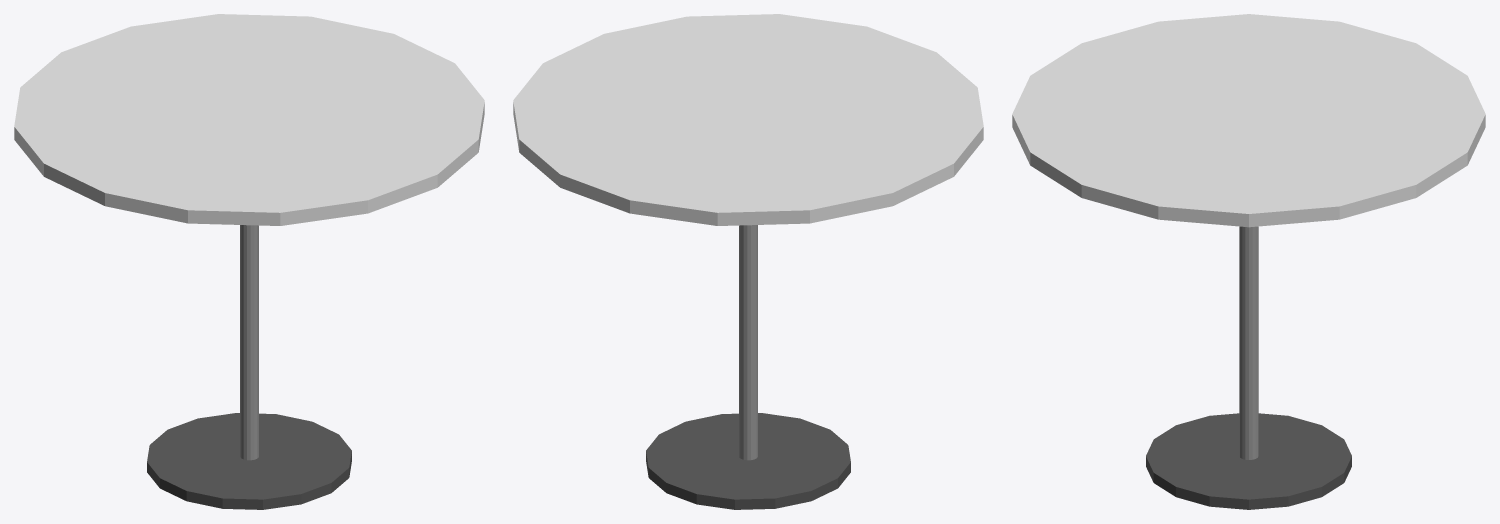
File: Table_01_C1.fbx
The picture shows the model from 3 angles, left to right: view 1: azimuth 30°, elevation 25°; view 2: azimuth 150°, elevation 25°; view 3: azimuth 270°, elevation 25°; orthographic projection.
Visible parts, largest first — view 1: Table_01_C1; view 2: Table_01_C1; view 3: Table_01_C1.
Part boxes in pixels (box(x1,y1,x2,y2)): Table_01_C1: box(14, 14, 484, 509); Table_01_C1: box(513, 14, 983, 509); Table_01_C1: box(1012, 14, 1485, 509).
Size of the model in its own units: 97.42 by 80 by 97.42.
